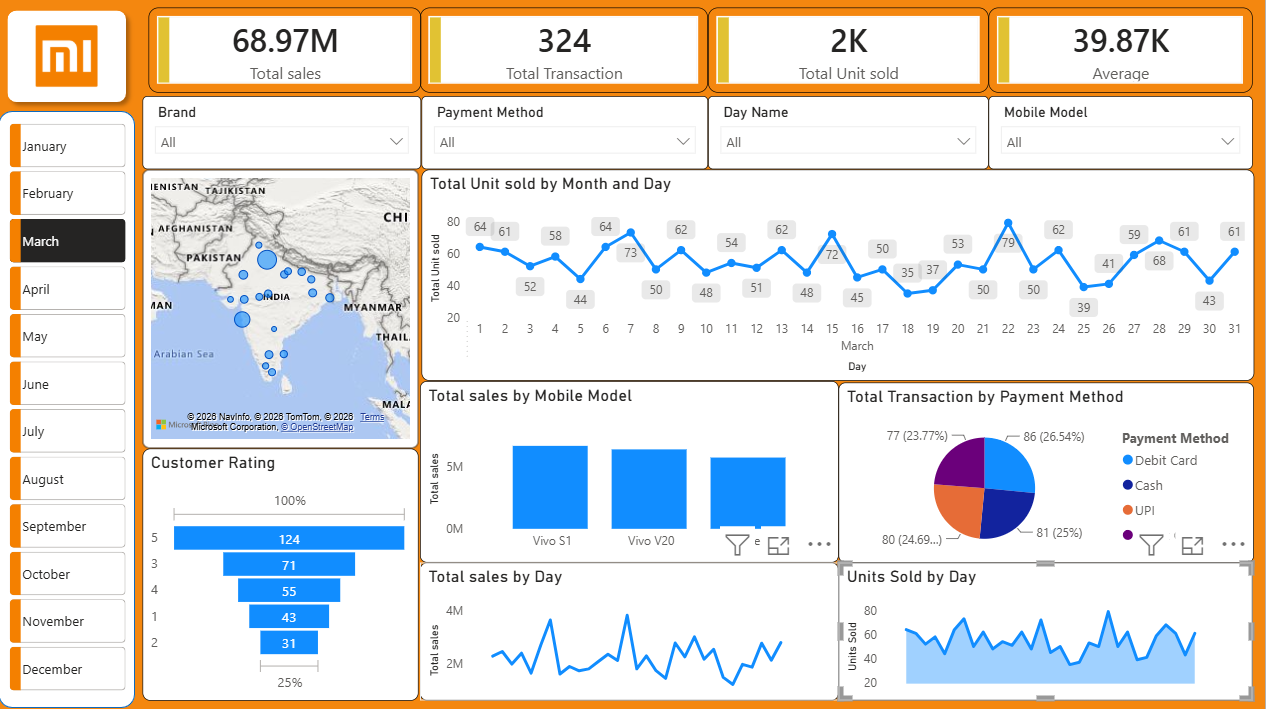

This screenshot's page, from the dashboard's own definition file:
{"tool":"powerbi","page":{"name":"Page 1","canvas":[1280,720],"ordinal":0},"visuals":[{"type":"shape","box":[1.5,112.1,137.8,602.7],"z":0},{"type":"shape","box":[1.5,1.5,137.8,110.5],"z":1000},{"type":"image","box":[24.2,16.7,92.4,80.3],"z":2000},{"type":"advancedSlicerVisual","fields":{"Values":["Sheet1.date.Variation.Date Hierarchy.Month"]},"box":[7.6,119.6,127.2,587.5],"z":3000},{"type":"cardVisual","fields":{"Data":["Sum(Sheet1.total sales)"]},"box":[152.9,7.6,275.6,86.3],"z":4000},{"type":"cardVisual","fields":{"Data":["Sheet1.Total Transaction"]},"box":[427,7.6,290.7,86.3],"z":5000},{"type":"cardVisual","fields":{"Data":["Sheet1.Total Unit bsoldf"]},"box":[717.7,7.6,283.2,86.3],"z":6000},{"type":"cardVisual","fields":{"Data":["Sheet1.Average"]},"box":[1000.9,7.6,266.5,86.3],"z":7000},{"type":"slicer","fields":{"Values":["Sheet1.Brand"]},"box":[146.9,96.9,281.6,74.2],"z":8000},{"type":"slicer","fields":{"Values":["Sheet1.Payment Method"]},"box":[428.5,96.9,289.2,74.2],"z":9000},{"type":"slicer","fields":{"Values":["Sheet1.Day Name"]},"box":[717.7,96.9,283.2,74.2],"z":10000},{"type":"slicer","fields":{"Values":["Sheet1.Mobile Model"]},"box":[1000.9,96.9,266.5,74.2],"z":11000},{"type":"map","fields":{"Category":["Sheet1.City"],"Size":["Sum(Sheet1.total sales)"]},"box":[146.9,171.1,278.6,281.6],"z":12000},{"type":"lineChart","fields":{"Category":["Sheet1.date.Variation.Date Hierarchy.Month","Sheet1.date.Variation.Date Hierarchy.Day"],"Y":["Sheet1.Total Unit sold"]},"box":[428.5,171.1,840.4,213.5],"z":13000},{"type":"columnChart","fields":{"Category":["Sheet1.Mobile Model"],"Y":["Sum(Sheet1.total sales)"]},"box":[427,384.6,422.5,183.2],"z":14000},{"type":"pieChart","fields":{"Category":["Sheet1.Payment Method"],"Y":["Sheet1.Total Transaction"]},"box":[849.5,386.1,419.4,181.7],"z":15000},{"type":"funnel","title":"Customer Rating","fields":{"Category":["Sheet1.Customer Ratings"],"Y":["CountNonNull(Sheet1.Customer Ratings)"]},"box":[146.9,452.7,278.6,254.4],"z":16000},{"type":"lineChart","fields":{"Category":["Sheet1.date.Variation.Date Hierarchy.Day"],"Y":["Sum(Sheet1.total sales)"]},"box":[427,567.8,422.5,139.3],"z":17000},{"type":"areaChart","fields":{"Category":["Sheet1.date.Variation.Date Hierarchy.Day"],"Y":["Sum(Sheet1.Units Sold)"]},"box":[849.5,567.8,417.9,139.3],"z":18000}]}

Visuals, with their boxes in screenshot pixels (x1, y1, x2, y2), scaled from the page's 1280x720 canvas onto the 1267x709 screenshot:
shape: bbox=[1, 110, 138, 704]
shape: bbox=[1, 1, 138, 110]
image: bbox=[24, 16, 115, 96]
advancedSlicerVisual - Sheet1.date.Variation.Date Hierarchy.Month: bbox=[8, 118, 133, 696]
cardVisual - Sum(Sheet1.total sales): bbox=[151, 7, 424, 92]
cardVisual - Sheet1.Total Transaction: bbox=[423, 7, 710, 92]
cardVisual - Sheet1.Total Unit bsoldf: bbox=[710, 7, 991, 92]
cardVisual - Sheet1.Average: bbox=[991, 7, 1255, 92]
slicer - Sheet1.Brand: bbox=[145, 95, 424, 168]
slicer - Sheet1.Payment Method: bbox=[424, 95, 710, 168]
slicer - Sheet1.Day Name: bbox=[710, 95, 991, 168]
slicer - Sheet1.Mobile Model: bbox=[991, 95, 1255, 168]
map - Sheet1.City x Sum(Sheet1.total sales): bbox=[145, 168, 421, 446]
lineChart - Sheet1.date.Variation.Date Hierarchy.Month x Sheet1.date.Variation.Date Hierarchy.Day: bbox=[424, 168, 1256, 379]
columnChart - Sheet1.Mobile Model x Sum(Sheet1.total sales): bbox=[423, 379, 841, 559]
pieChart - Sheet1.Payment Method x Sheet1.Total Transaction: bbox=[841, 380, 1256, 559]
"Customer Rating" funnel: bbox=[145, 446, 421, 696]
lineChart - Sheet1.date.Variation.Date Hierarchy.Day x Sum(Sheet1.total sales): bbox=[423, 559, 841, 696]
areaChart - Sheet1.date.Variation.Date Hierarchy.Day x Sum(Sheet1.Units Sold): bbox=[841, 559, 1255, 696]
